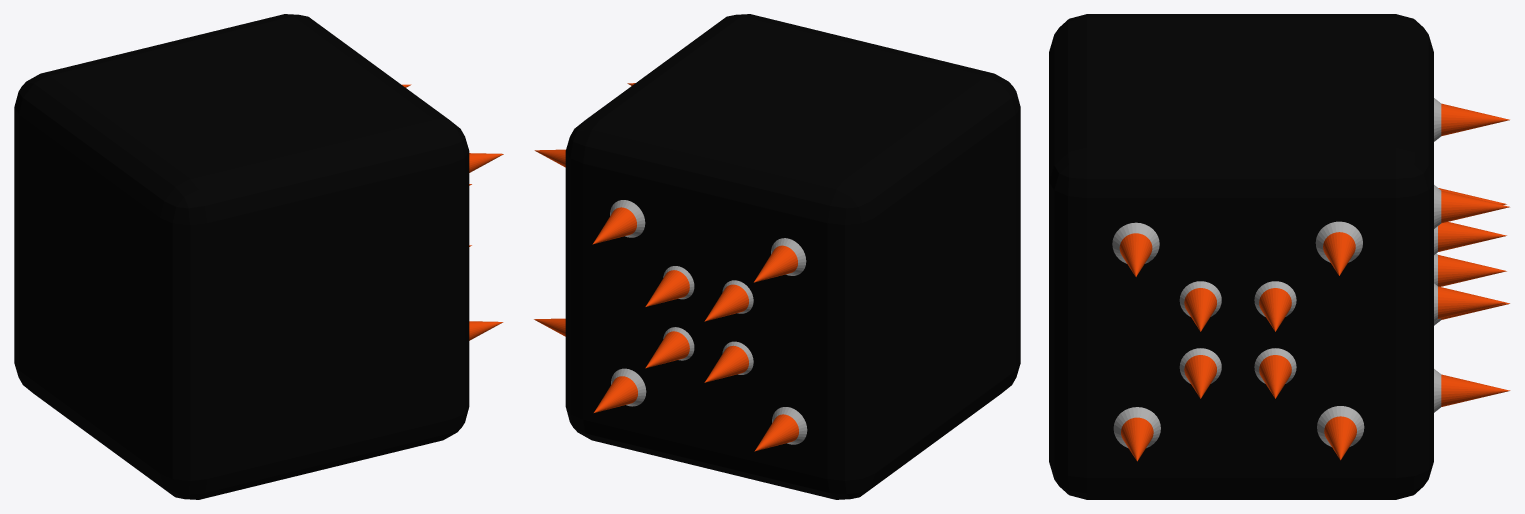
The model's file is dikensag.fbx.
The picture shows the model from 3 angles, left to right: view 1: azimuth 30°, elevation 25°; view 2: azimuth 150°, elevation 25°; view 3: azimuth 270°, elevation 25°; orthographic projection. The views are drawn at different scales.
Parts seen in each view (by area): view 1: Cube.001; view 2: Cube.001, Circle.052, Circle.051, Circle.050, Circle.053, Circle.054, Circle.056, Circle.057, Circle.055; view 3: Cube.001, Circle.048, Circle.047, Circle.049, Circle.046, Circle.051, Circle.052, Circle.053, Circle.042, Circle.043, Circle.045, Circle.044 (+3 smaller).
Boxes of the visible parts, x1,y1,x2,y2 form: Cube.001: (14, 14, 469, 499); Cube.001: (565, 14, 1020, 499); Circle.052: (594, 368, 646, 412); Circle.051: (592, 200, 645, 244); Circle.050: (754, 407, 807, 451); Circle.053: (754, 238, 806, 282); Circle.054: (645, 327, 694, 368); Circle.056: (704, 280, 753, 321); Circle.057: (645, 266, 694, 306); Circle.055: (704, 341, 753, 382); Cube.001: (1049, 14, 1433, 499); Circle.048: (1112, 222, 1159, 276); Circle.047: (1113, 407, 1160, 461); Circle.049: (1317, 406, 1364, 460); Circle.046: (1315, 221, 1362, 275); Circle.051: (1434, 185, 1509, 228); Circle.052: (1434, 369, 1510, 412); Circle.053: (1434, 98, 1509, 141); Circle.042: (1179, 281, 1221, 331); Circle.043: (1254, 281, 1296, 331); Circle.045: (1179, 348, 1221, 398); Circle.044: (1254, 348, 1296, 398).
Size of the model in its own units: 46.5 by 38.6 by 46.32.
